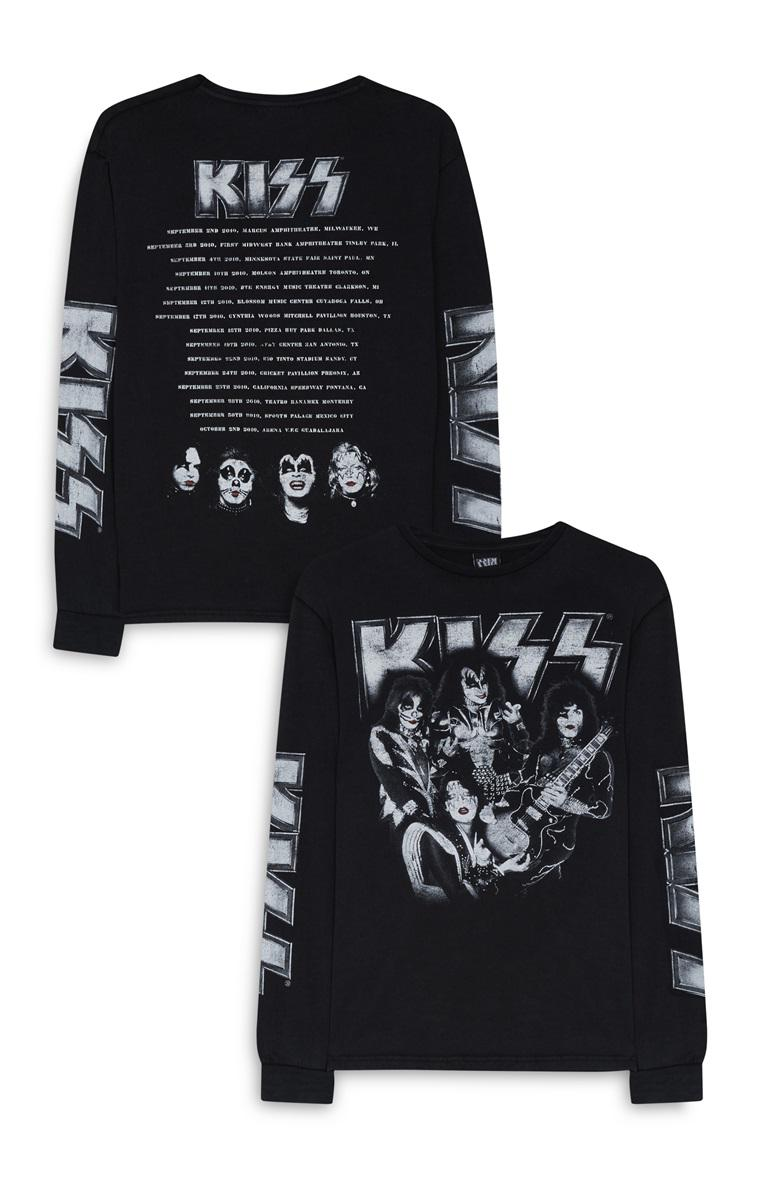teeshirt: (243, 518, 720, 1126), (23, 59, 514, 563)
